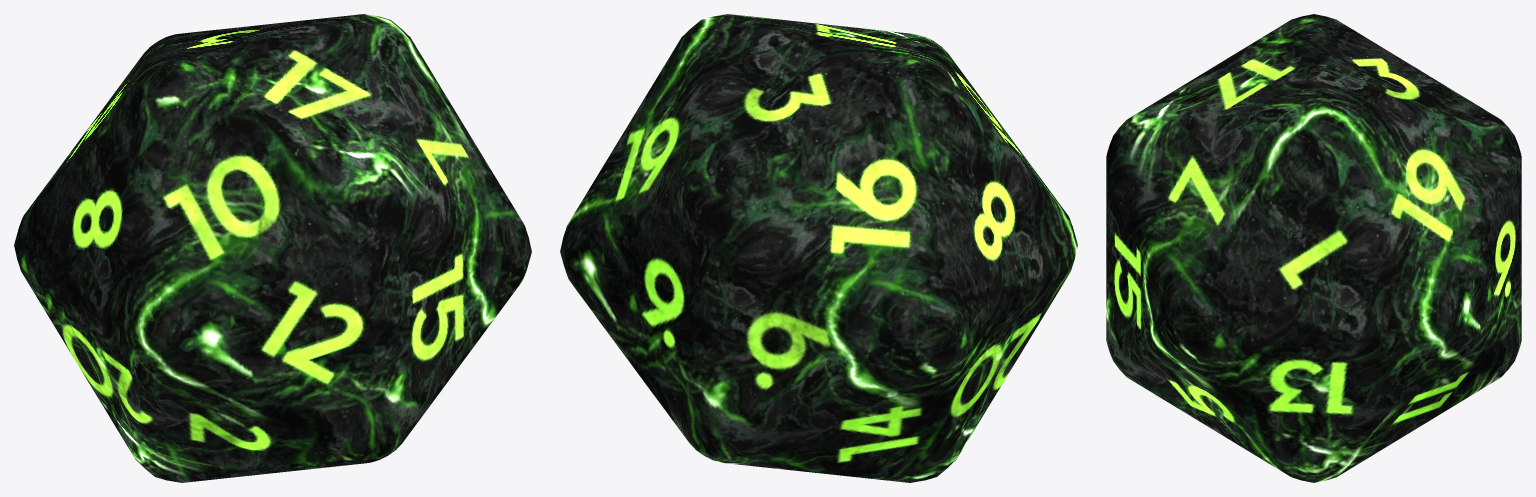
3 renders of one model, left to right at view 1: azimuth 30°, elevation 25°; view 2: azimuth 150°, elevation 25°; view 3: azimuth 270°, elevation 25°, orthographic. The views are drawn at different scales.
Parts seen in each view (by area): view 1: dice_20; view 2: dice_20; view 3: dice_20.
Boxes of the visible parts, x1=… form: dice_20: x1=14, y1=14, x2=531, y2=482; dice_20: x1=560, y1=14, x2=1077, y2=482; dice_20: x1=1106, y1=14, x2=1521, y2=482.
Size of the model in its own units: 167 by 167 by 167.
Materials: 1 (1 with a texture image).
